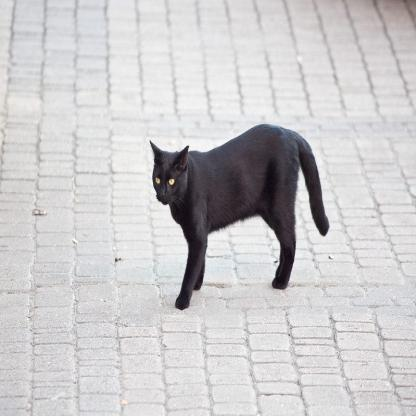cat: (144, 134, 328, 306)
